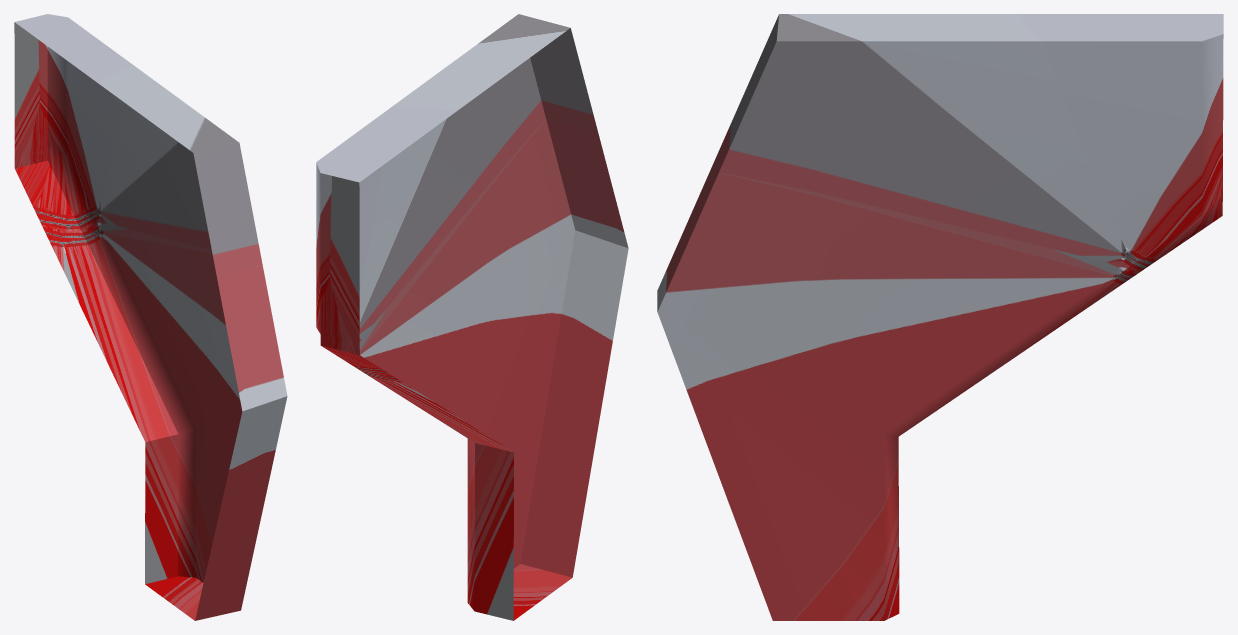
File: Makovec_Door_02_Upper_Half.fbx
3 renders of one model, left to right at view 1: azimuth 30°, elevation 25°; view 2: azimuth 150°, elevation 25°; view 3: azimuth 270°, elevation 25°, orthographic. The views are drawn at different scales.
Parts seen in each view (by area): view 1: Upper_Half; view 2: Upper_Half; view 3: Upper_Half.
Part boxes in pixels (<box>): Upper_Half: <box>14,14,287,620</box>; Upper_Half: <box>316,14,628,620</box>; Upper_Half: <box>657,14,1223,620</box>.
Size of the model in its own units: 2.27 by 22.43 by 19.85.
1 material, 1 textured.
